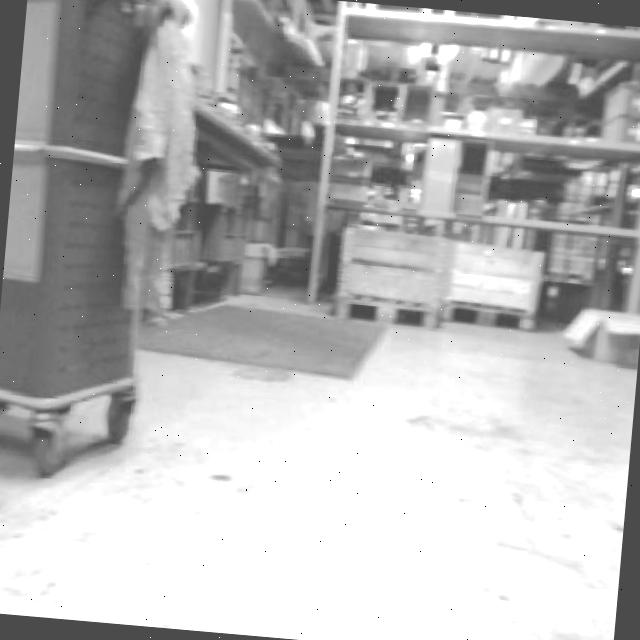ground: (0, 255, 640, 640)
pallet: (308, 0, 640, 343), (331, 221, 549, 336), (440, 235, 549, 332), (561, 303, 640, 366)
